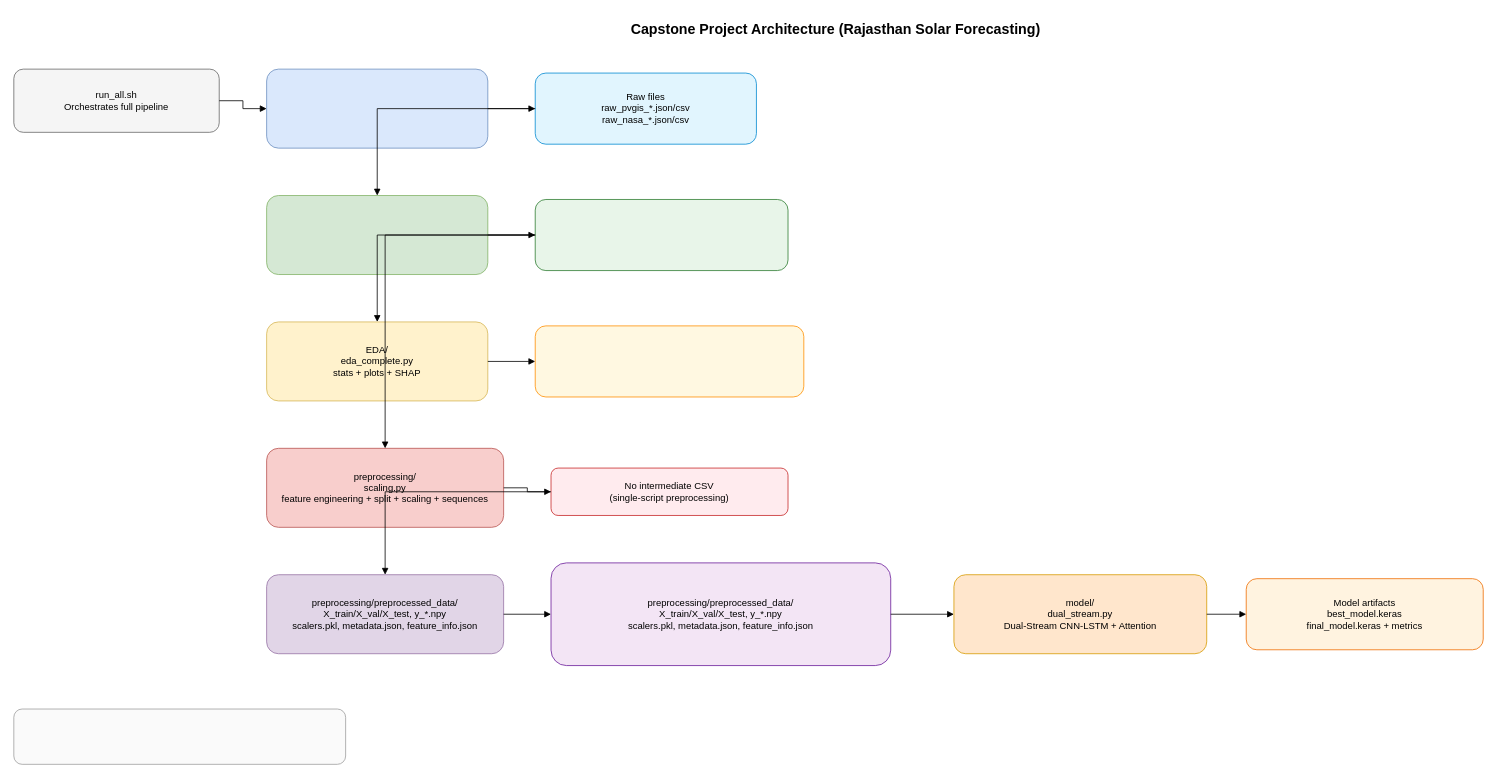
This 1497x778 diagram has some shape labels left out. The shapes that lost their labels are listed below. From the top down, each one's centre as x and y in pixels, then its label:
the point at 377,108: data/ download_raw_data.py PVGIS + NASA API pulls
the point at 377,235: datacleaning/ clean_data.py merge, align, validate
the point at 661,235: processed_solar_2019_2020.csv cleaning_report.txt
the point at 669,361: EDA/EDA_plots/ univariate, bivariate, temporal, correlation, SHAP
the point at 179,736: Data flow: top to bottom Outputs are stored within each module folder
